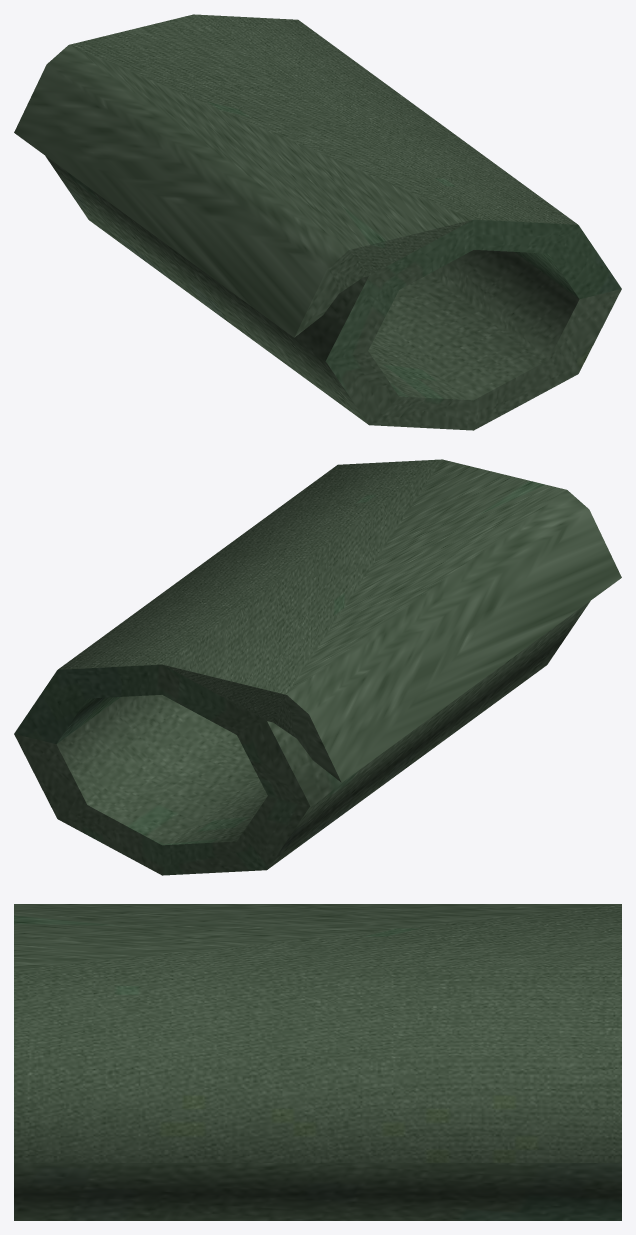
Rendered from Jelly plate.fbx.
3 renders of one model, top to bottom at view 1: azimuth 30°, elevation 25°; view 2: azimuth 150°, elevation 25°; view 3: azimuth 270°, elevation 25°, orthographic. The views are drawn at different scales.
Visible parts, largest first — view 1: Cylinder.001; view 2: Cylinder.001; view 3: Cylinder.001.
Part boxes in pixels (<box>): Cylinder.001: <box>14,14,621,430</box>; Cylinder.001: <box>14,459,621,875</box>; Cylinder.001: <box>14,904,621,1220</box>.
Bounding box in the file's own units: 20.99 × 12.91 × 31.09.
